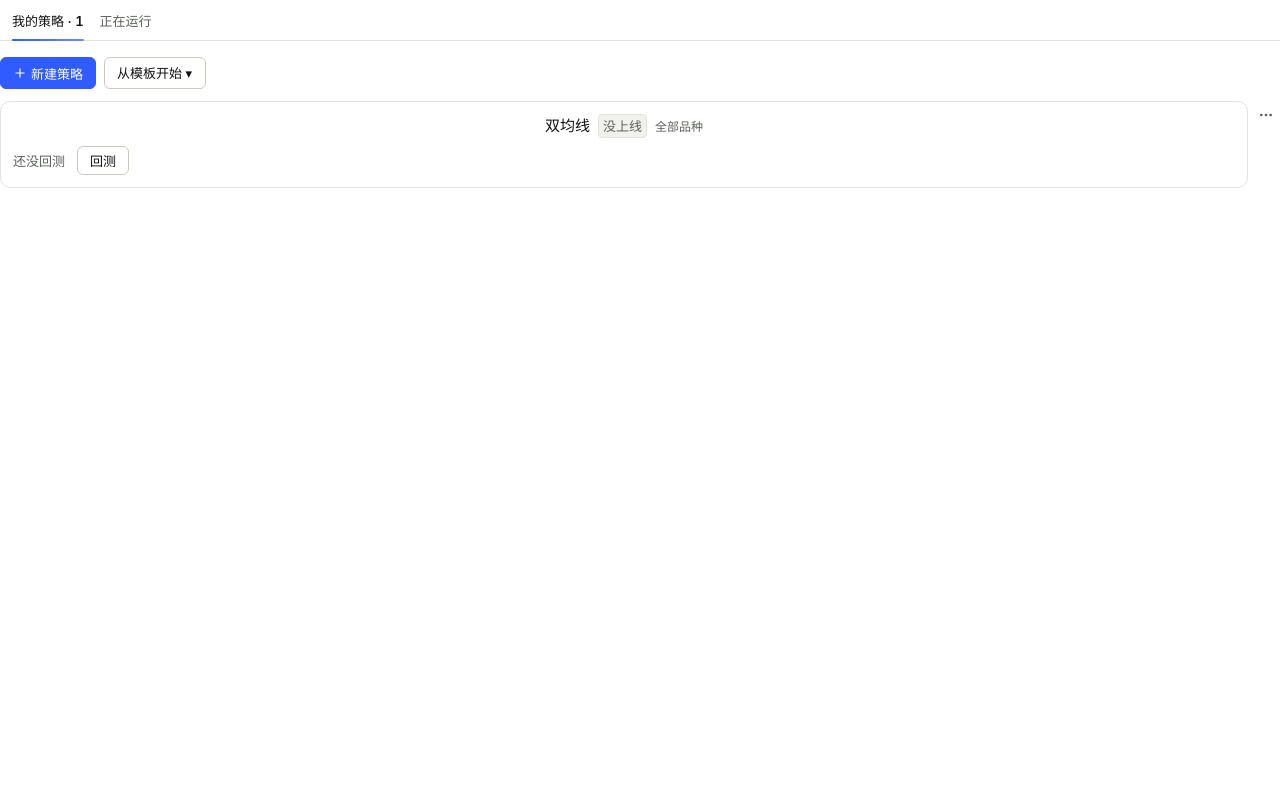
Test: 加仓与分批止盈的逐笔行：含加仓次数的持仓一行，分批平仓的档写分批止盈（第六批）
Click the button with aria-label "双均线 · " at {"x": 624, "y": 126}, box [13,114,1235,138]
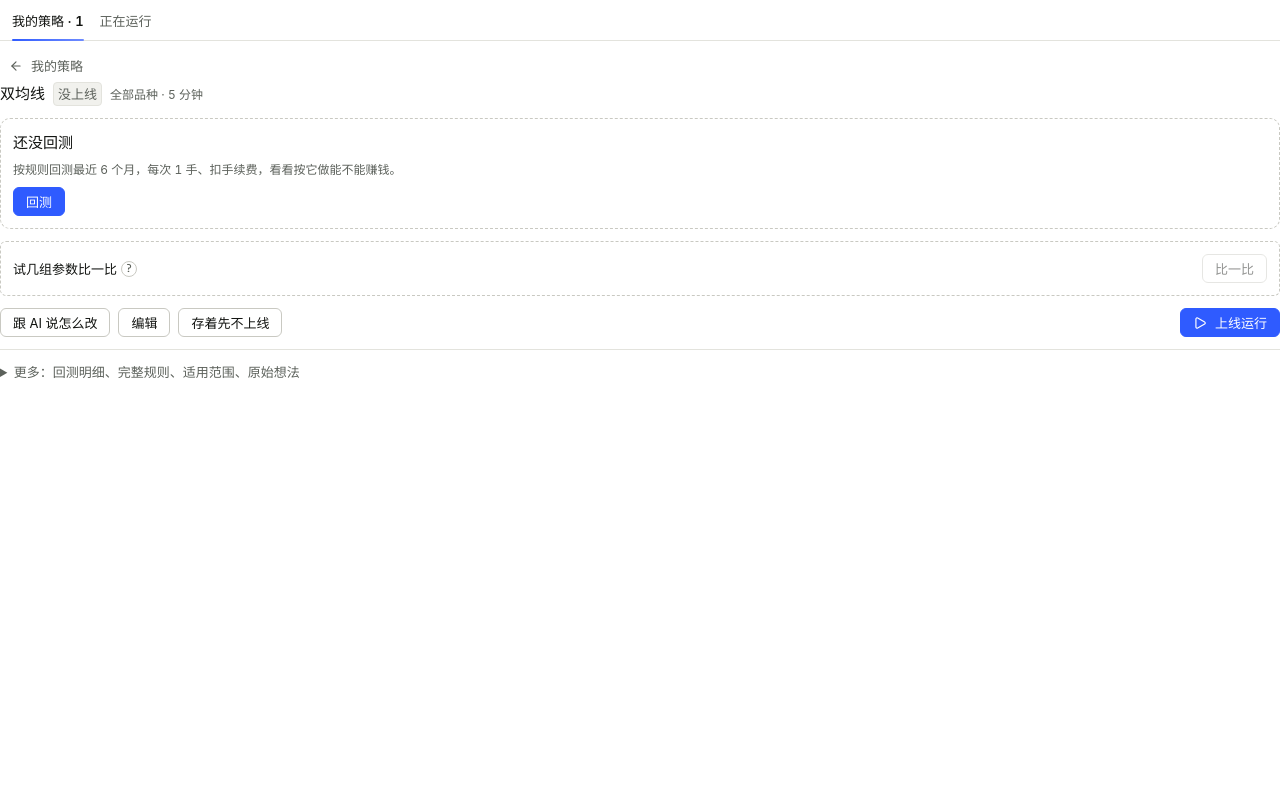
Click the button "回测" at {"x": 39, "y": 202}, box [13,187,65,216]
(page scrolled)
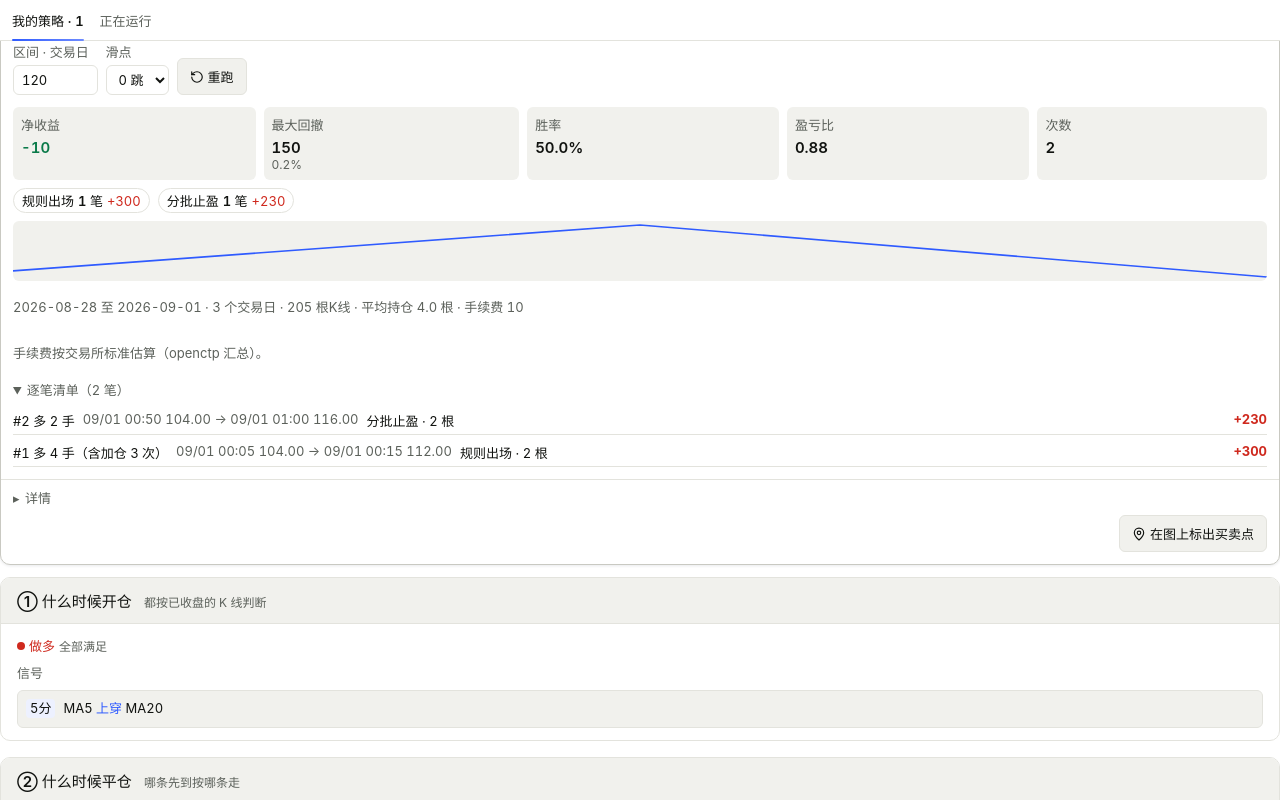
Check: the text "#1 多 4 手（含加仓 3 次）" is shown, box [13,443,168,462]
Check: the text "#2 多 2 手" is shown, box [13,411,75,430]
Check: the text "分批止盈 · 2 根" is shown once, box [366,411,454,430]
